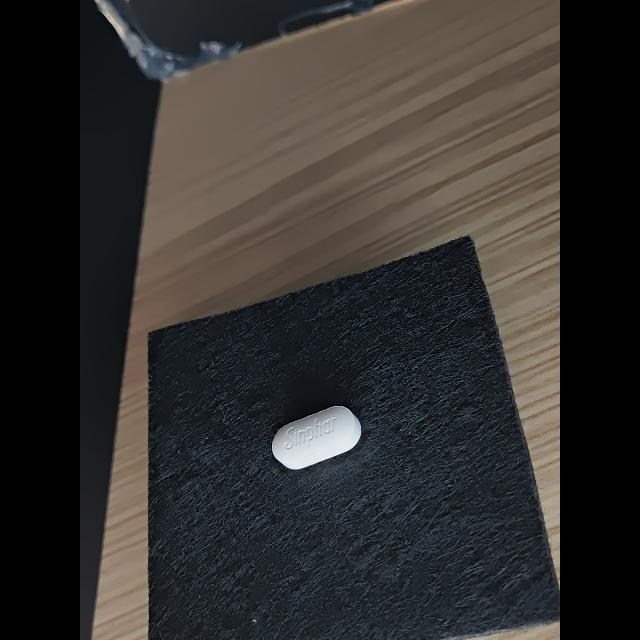Intact Pill: (272, 406, 361, 469)
